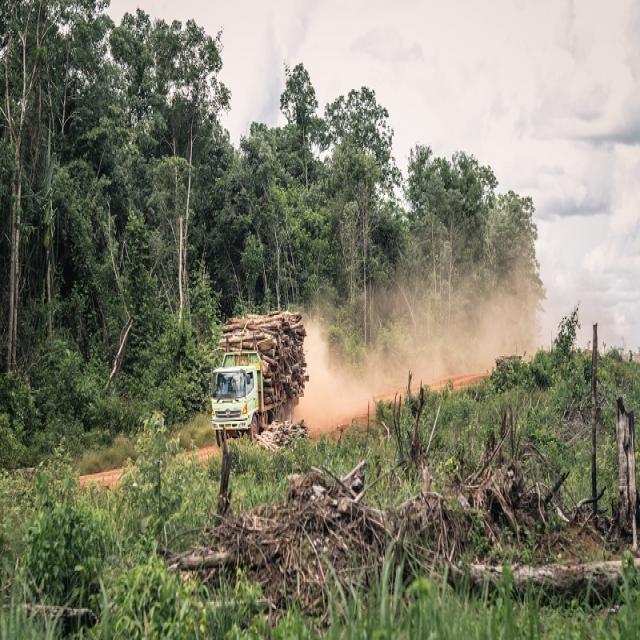Truck: (209, 307, 308, 439)
